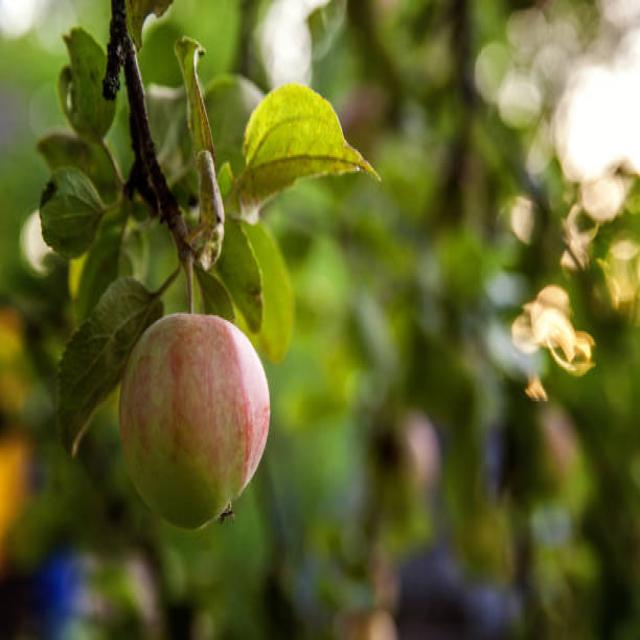Unripe: (117, 307, 270, 533)
